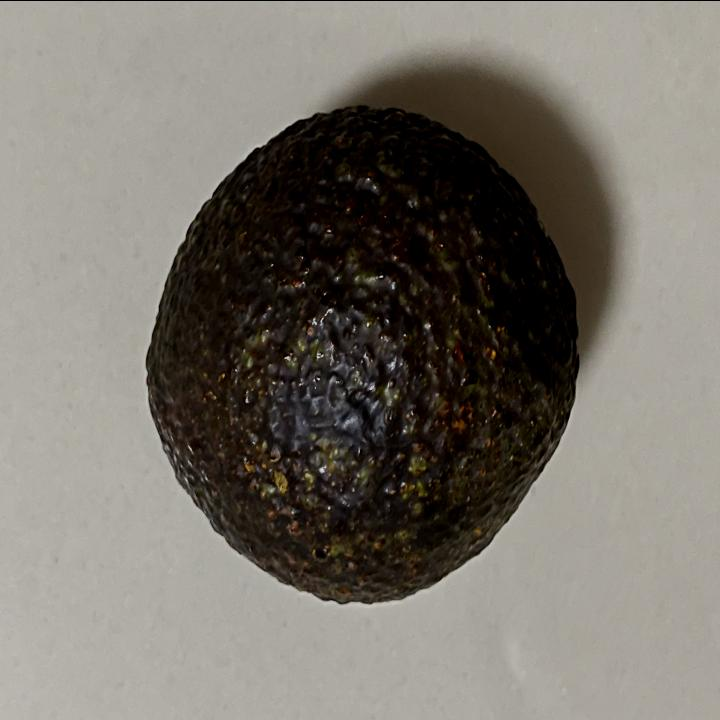Level1: (127, 83, 607, 618)
